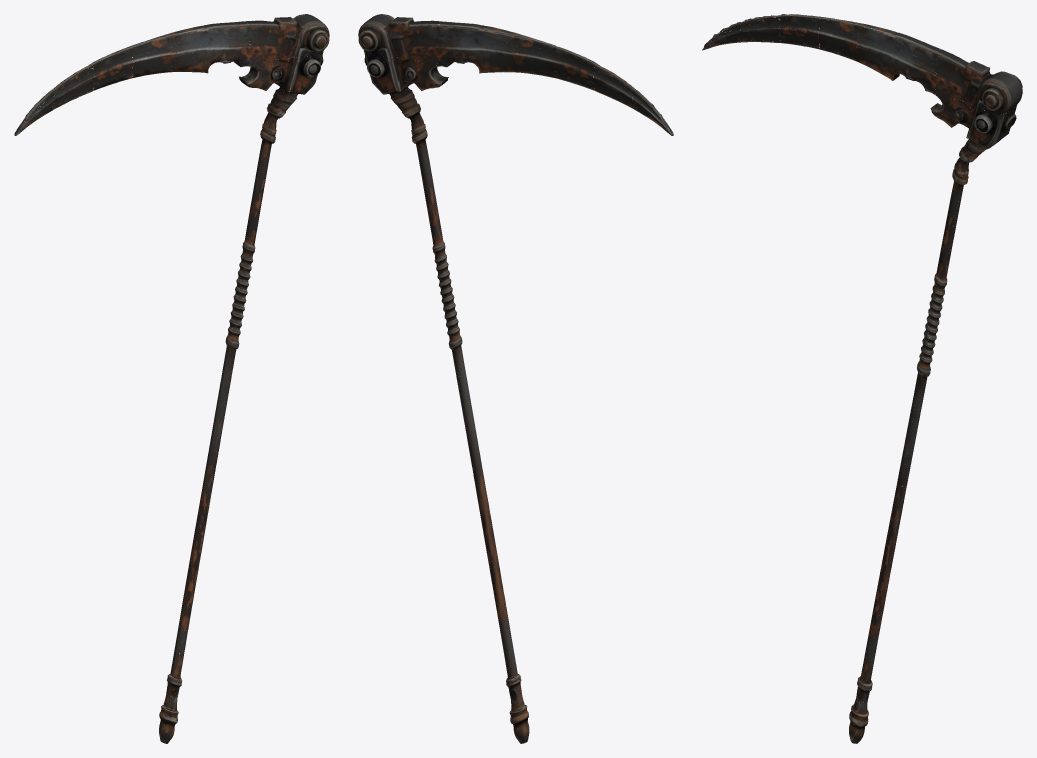
File: ain_scythe_tex.glb
3 views of the same model, side by side, from view 1: azimuth 30°, elevation 25°; view 2: azimuth 150°, elevation 25°; view 3: azimuth 330°, elevation 25° (orthographic).
Visible parts, largest first — view 1: Mesh; view 2: Mesh; view 3: Mesh.
Boxes of the visible parts, x1,y1,x2,y2 form: Mesh: (14,14,329,743); Mesh: (358,14,673,743); Mesh: (702,14,1022,743).
Bounding box in the file's own units: 0.8228 × 1.8 × 0.117.
Materials: 1 (1 with a texture image).
